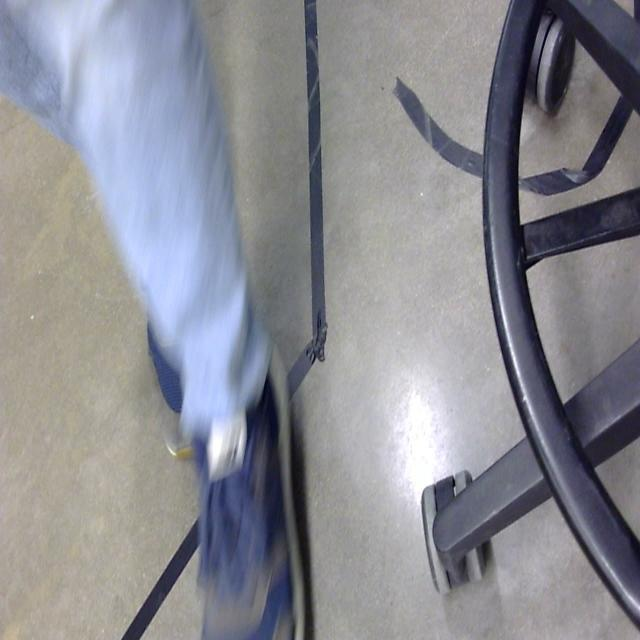tape: (94, 0, 354, 640), (382, 0, 640, 217)
